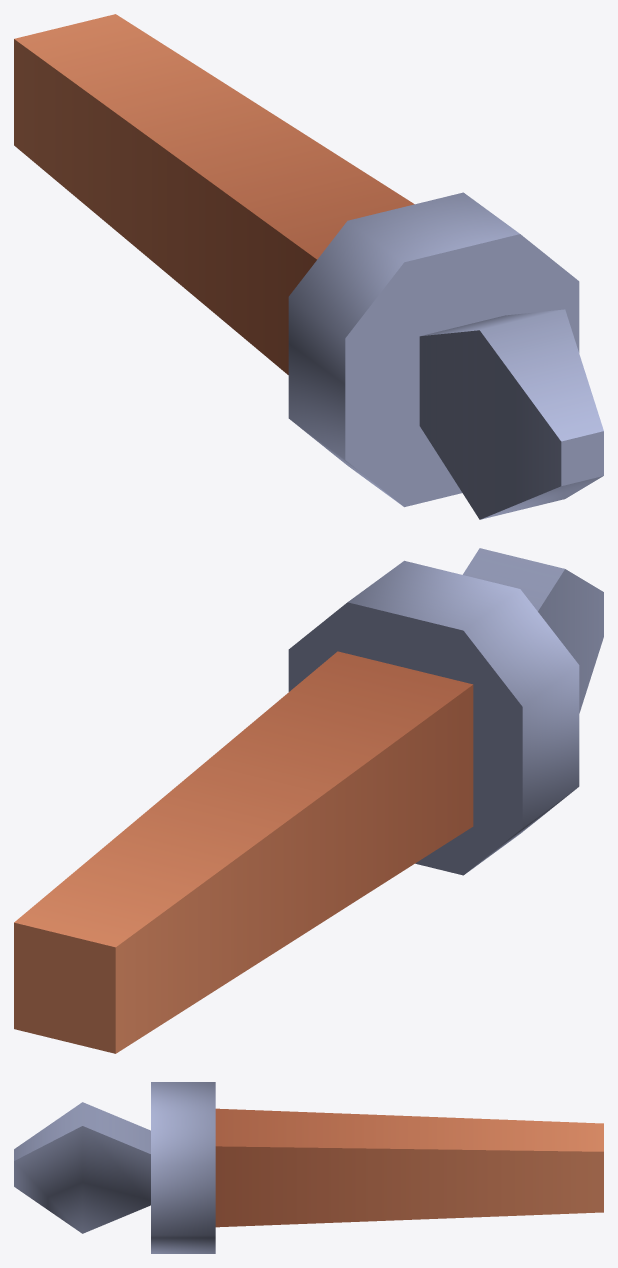
Rendered from forest_weapon-arrow.obj.
3 renders of one model, top to bottom at view 1: azimuth 30°, elevation 25°; view 2: azimuth 150°, elevation 25°; view 3: azimuth 270°, elevation 25°, orthographic. The views are drawn at different scales.
Parts seen in each view (by area): view 1: weapon-arrow; view 2: weapon-arrow; view 3: weapon-arrow.
Part boxes in pixels (bbox=[...]): weapon-arrow: bbox=[14, 14, 603, 519]; weapon-arrow: bbox=[14, 548, 603, 1053]; weapon-arrow: bbox=[14, 1082, 603, 1253].
Bounding box in the file's own units: 0.119 × 0.119 × 0.456.
1 material, 1 textured.
